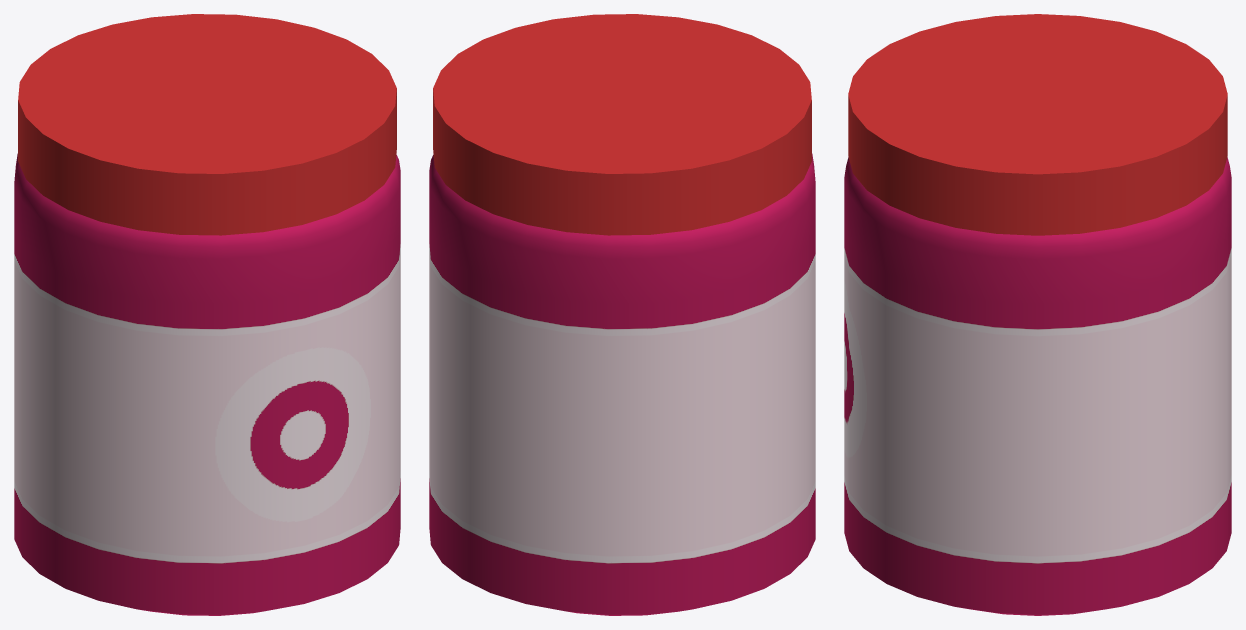
File: Jam.fbx
3 renders of one model, left to right at view 1: azimuth 30°, elevation 25°; view 2: azimuth 150°, elevation 25°; view 3: azimuth 270°, elevation 25°, orthographic.
Parts seen in each view (by area): view 1: Jam; view 2: Jam; view 3: Jam.
Part boxes in pixels (box(x1,y1,x2,y2)): Jam: box(14, 14, 400, 615); Jam: box(429, 14, 815, 615); Jam: box(844, 14, 1231, 615).
Size of the model in its own units: 0.08 by 0.104 by 0.08.
3 materials, 1 textured.
